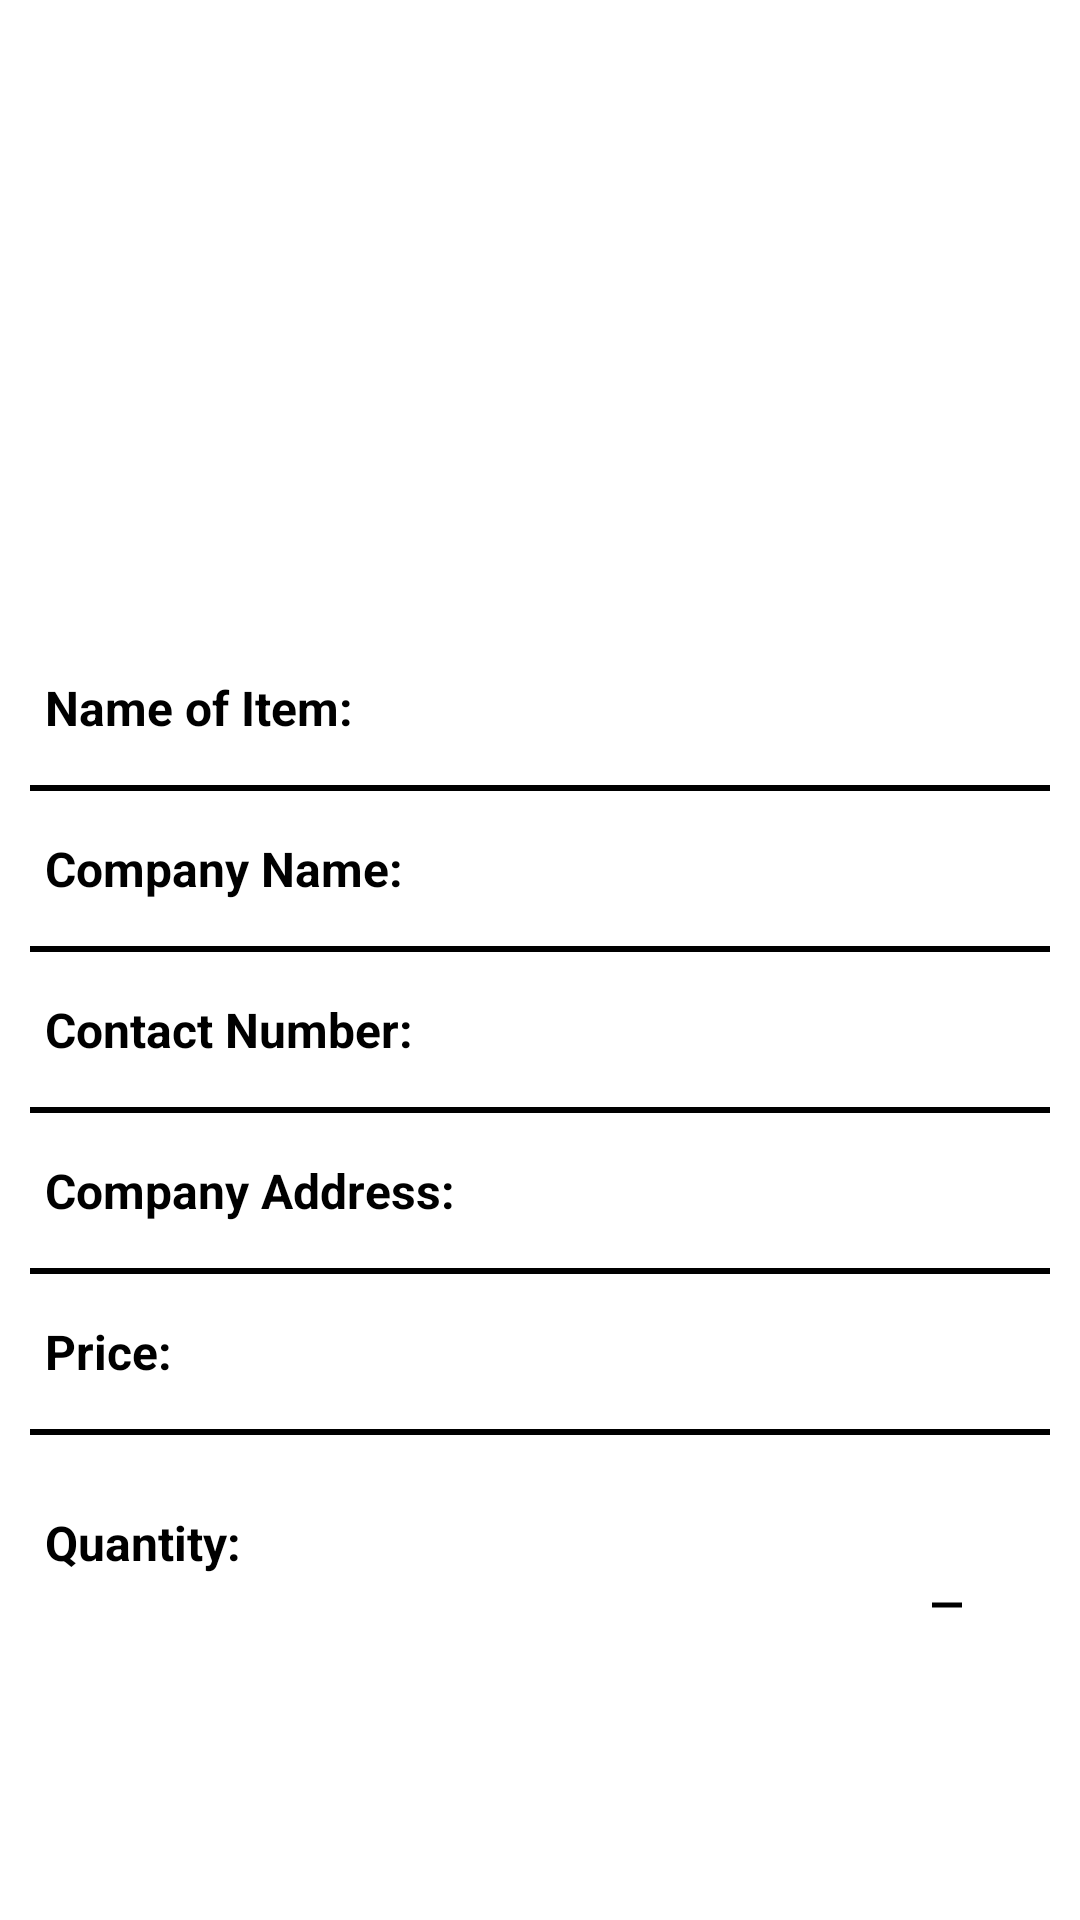

Icons on this 1080x1920 Android screen, each with its box as (x1, y1, x2, y2):
minimize: (932, 1602, 962, 1608)
